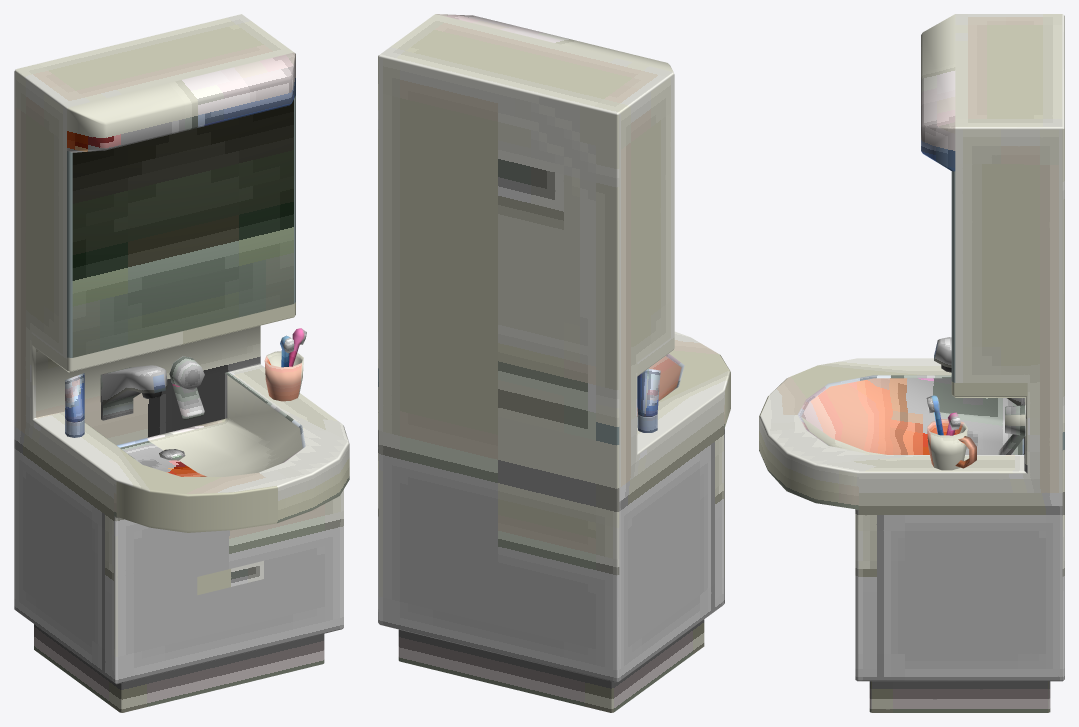
File: int_oth_washstand.dae
The picture shows the model from 3 angles, left to right: view 1: azimuth 30°, elevation 25°; view 2: azimuth 150°, elevation 25°; view 3: azimuth 270°, elevation 25°; orthographic projection. The views are drawn at different scales.
Visible parts, largest first — view 1: int_oth_washstand; view 2: int_oth_washstand; view 3: int_oth_washstand.
Boxes of the visible parts, <box> form: int_oth_washstand: <box>14,14,349,712</box>; int_oth_washstand: <box>378,14,730,712</box>; int_oth_washstand: <box>759,14,1064,712</box>.
Size of the model in its own units: 25.44 by 58.72 by 27.51.
Materials: 3 (3 with a texture image).
